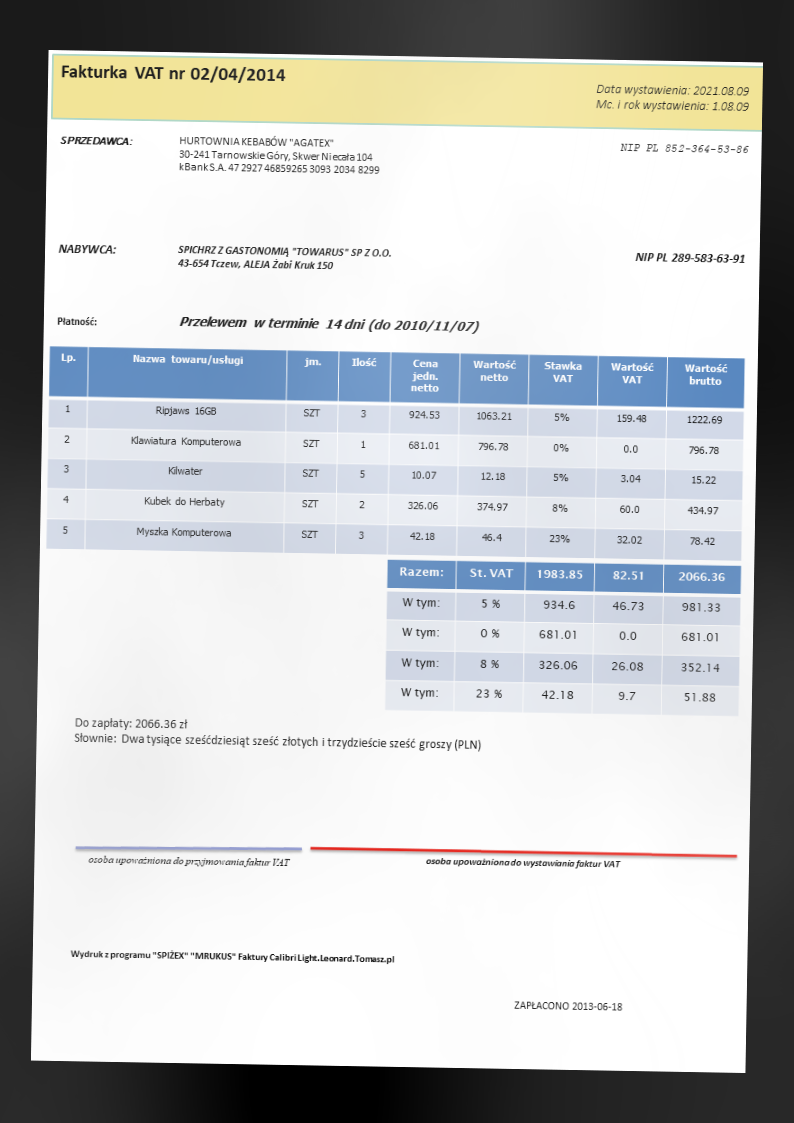Table: (44, 344, 745, 562), (384, 557, 742, 717)
TextBox: (72, 715, 482, 754), (176, 133, 382, 176), (176, 313, 481, 337), (175, 241, 393, 273), (69, 947, 397, 966), (59, 62, 288, 86), (594, 81, 753, 114), (425, 854, 621, 872), (86, 853, 292, 870), (617, 139, 751, 157), (634, 250, 748, 266), (512, 998, 626, 1012), (59, 132, 134, 147), (55, 240, 119, 256), (54, 314, 99, 327)
